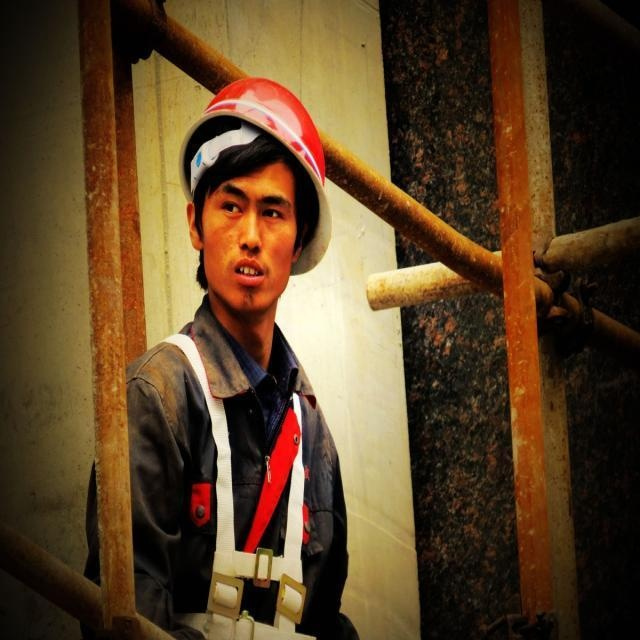Arnes_seguridad: (148, 327, 331, 640)
